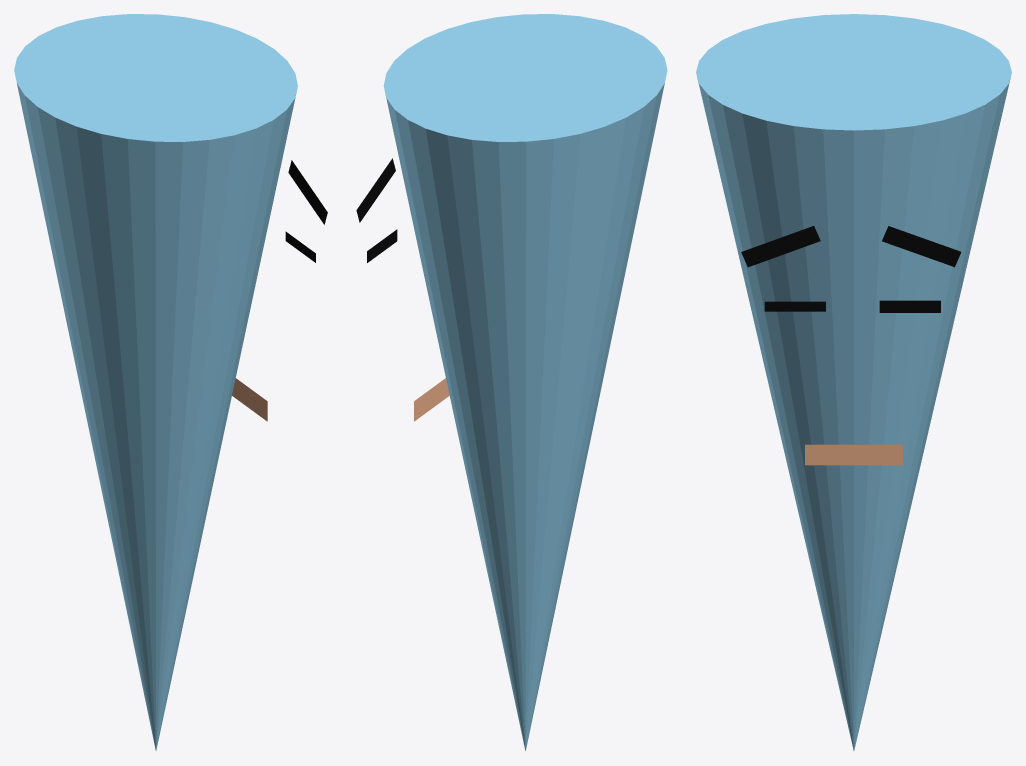
Rendered from turaran.fbx.
3 views of the same model, side by side, from view 1: azimuth 30°, elevation 25°; view 2: azimuth 150°, elevation 25°; view 3: azimuth 270°, elevation 25° (orthographic).
Parts seen in each view (by area): view 1: turara, kuti2.001, mayu2; view 2: turara, kuti2.001, mayu; view 3: turara, kuti2.001, mayu2, mayu, me_2, me_2.001.
Boxes of the visible parts, box(x1,y1,x2,y2) form: turara: box(14, 14, 297, 750); kuti2.001: box(232, 378, 267, 421); mayu2: box(288, 160, 327, 224); turara: box(383, 14, 667, 750); kuti2.001: box(414, 378, 449, 421); mayu: box(356, 158, 395, 222); turara: box(696, 14, 1011, 750); kuti2.001: box(805, 444, 902, 465); mayu2: box(741, 226, 820, 267); mayu: box(882, 226, 961, 267); me_2: box(879, 300, 940, 312); me_2.001: box(764, 301, 825, 311).
Bounding box in the file's own units: 3.18 × 2.78 × 7.55.
